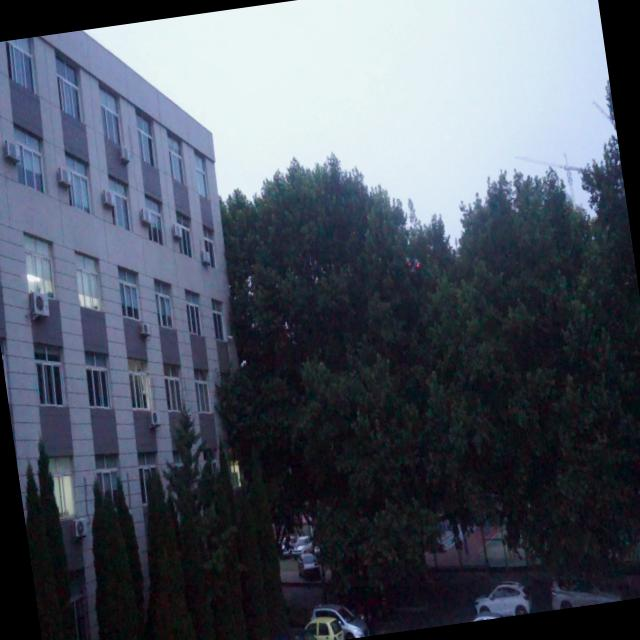drone: (238, 356, 249, 370)
